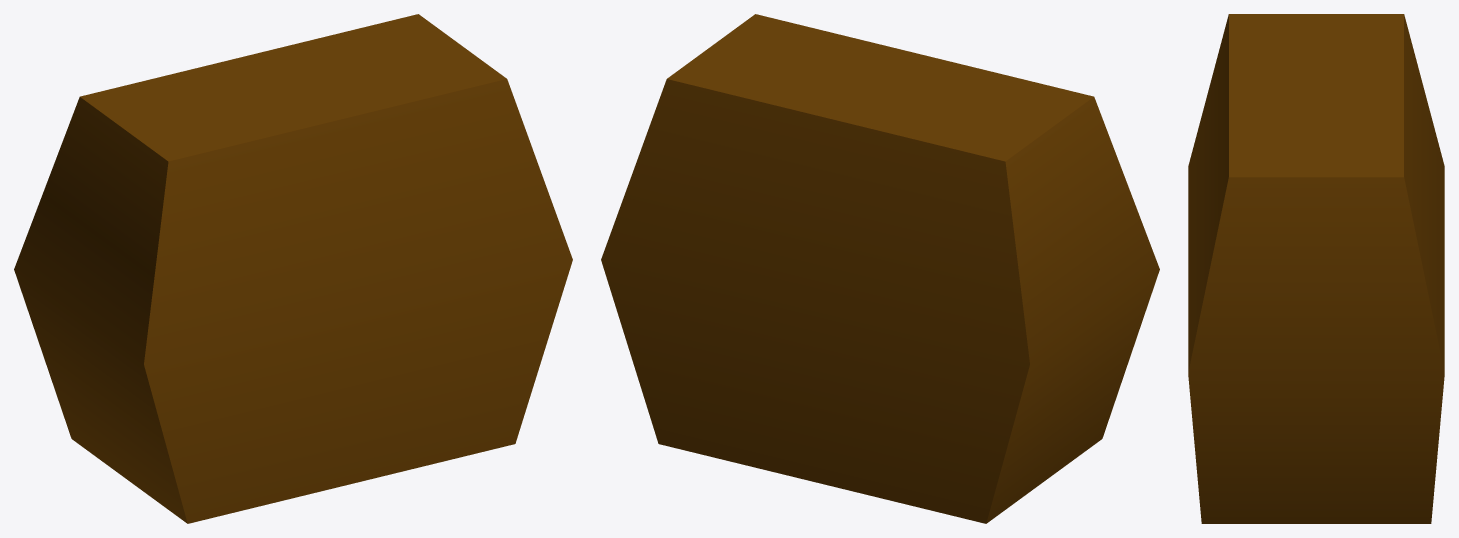
3 renders of one model, left to right at view 1: azimuth 30°, elevation 25°; view 2: azimuth 150°, elevation 25°; view 3: azimuth 270°, elevation 25°, orthographic.
Parts seen in each view (by area): view 1: Box003; view 2: Box003; view 3: Box003.
Part boxes in pixels (x1,y1,x2,y2): Box003: (14, 14, 572, 523); Box003: (601, 14, 1159, 523); Box003: (1188, 14, 1444, 523).
Size of the model in its own units: 44.28 by 34.88 by 23.22.
